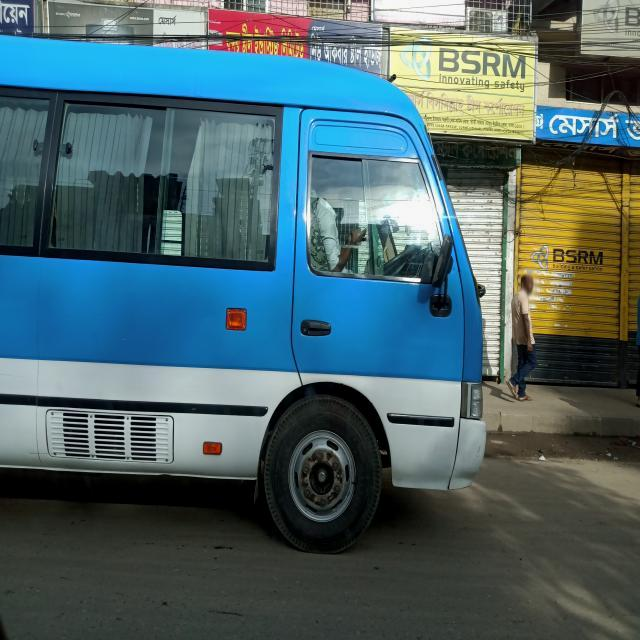bus: (2, 35, 487, 558)
